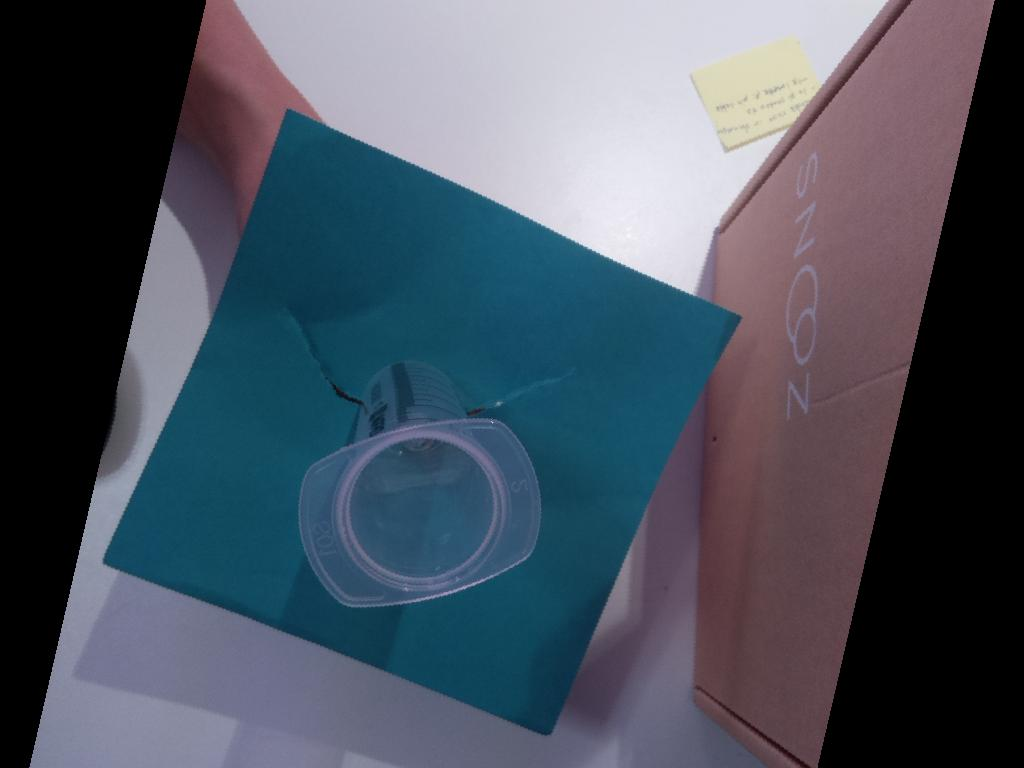clean: (294, 411, 559, 610)
